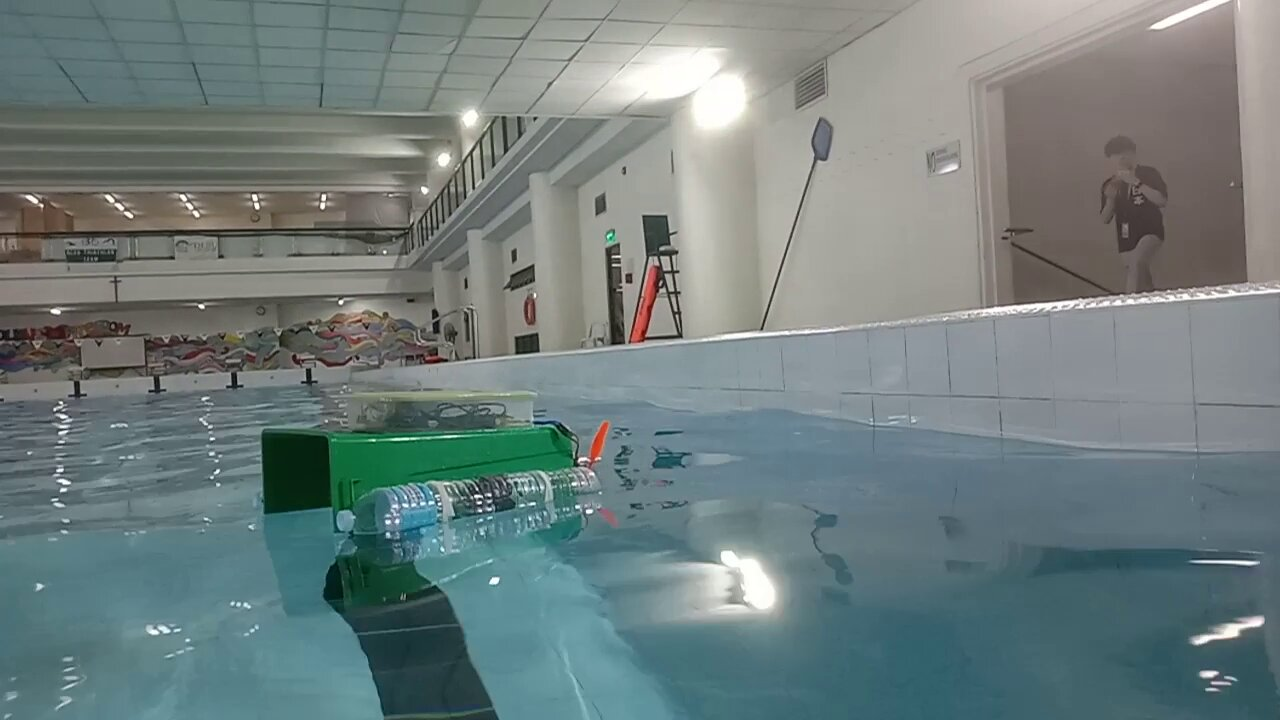drone: (262, 390, 609, 537)
